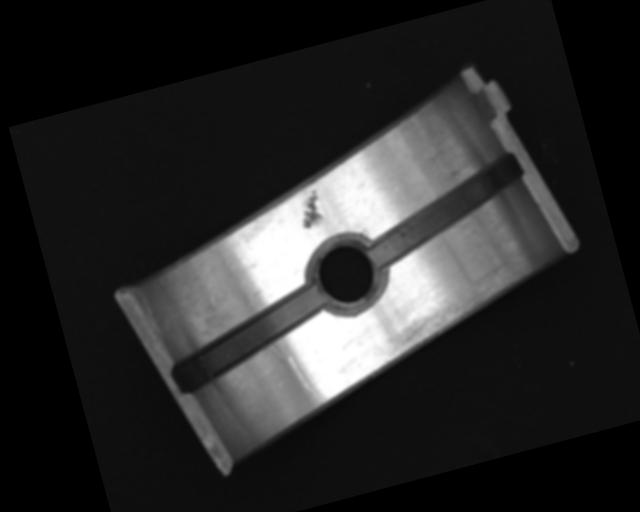bruise: (294, 187, 327, 231)
gap: (355, 150, 534, 270), (159, 284, 336, 394)
hole: (297, 228, 394, 320)
nick: (289, 350, 329, 410)
scratch: (318, 253, 540, 387)
